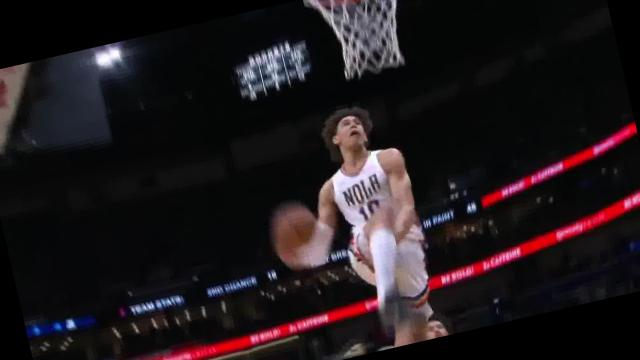ball-handler: (226, 78, 469, 360)
